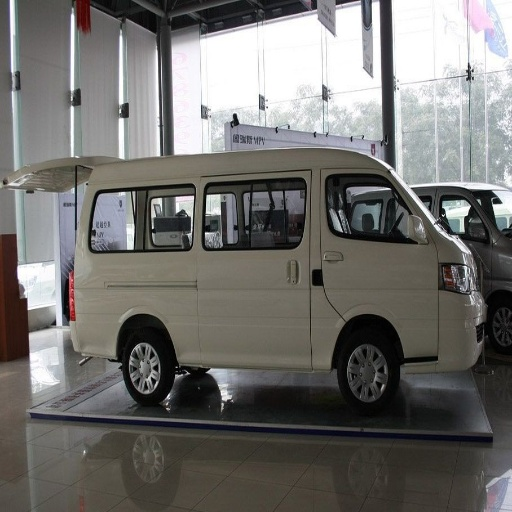back_bumper: (437, 296, 479, 368)
back_glass: (348, 173, 402, 238)
back_right_door: (324, 173, 372, 222)
trunk: (75, 249, 466, 364)
